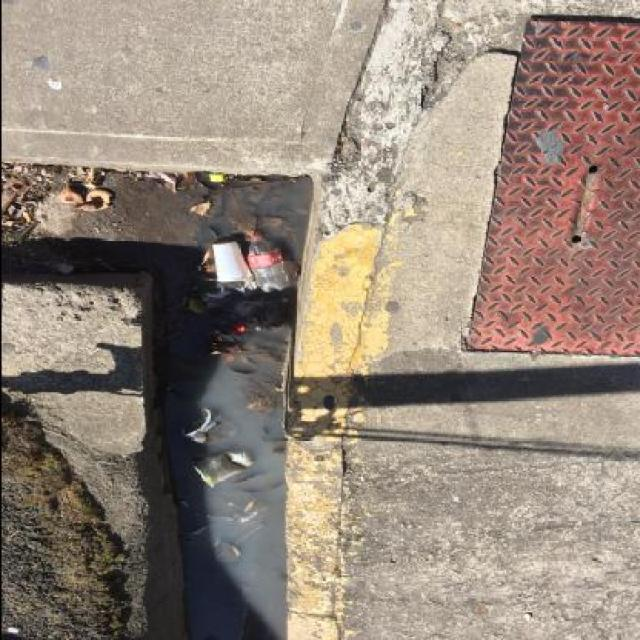plastic: (246, 231, 288, 292), (190, 449, 255, 488), (180, 408, 235, 446), (210, 240, 253, 282)
